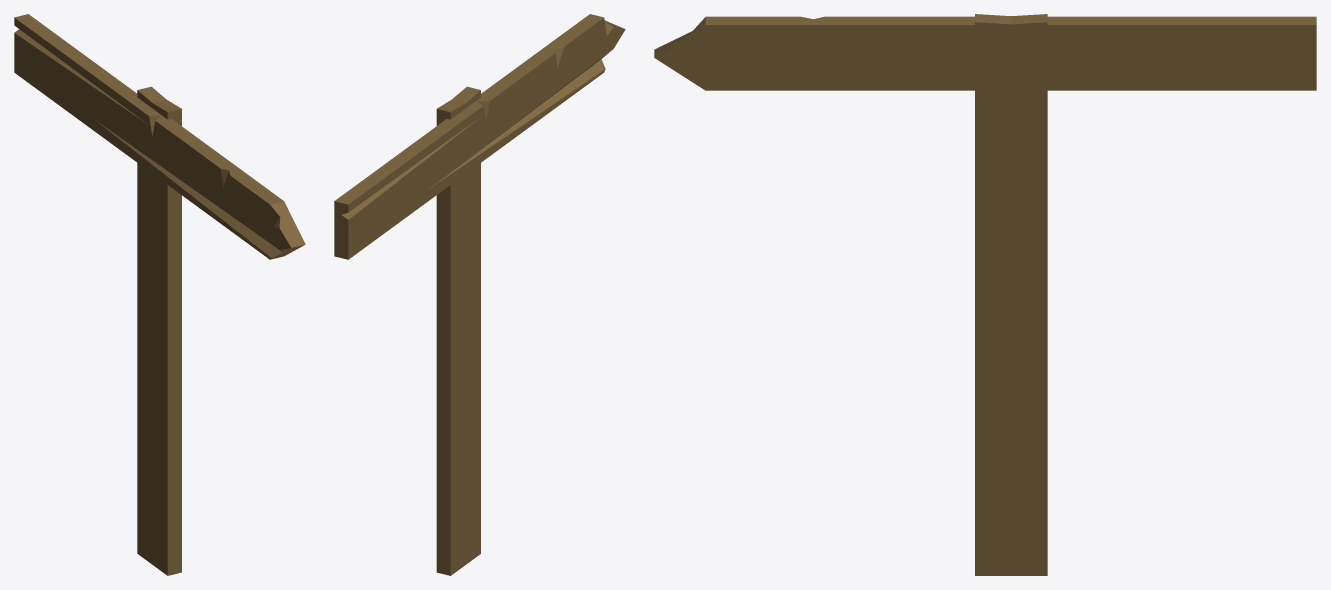
Rendered from Sign.fbx.
3 views of the same model, side by side, from view 1: azimuth 30°, elevation 25°; view 2: azimuth 150°, elevation 25°; view 3: azimuth 270°, elevation 25° (orthographic). The views are drawn at different scales.
Visible parts, largest first — view 1: Cube.009; view 2: Cube.009; view 3: Cube.009.
Boxes of the visible parts, x1,y1,x2,y2 form: Cube.009: (14,14,305,575); Cube.009: (334,14,625,575); Cube.009: (654,14,1316,575).
Bounding box in the file's own units: 12.88 × 232 × 252.
